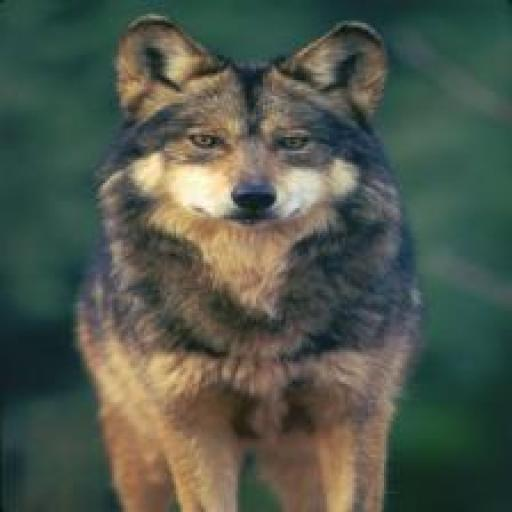wolf: (73, 2, 414, 512)
